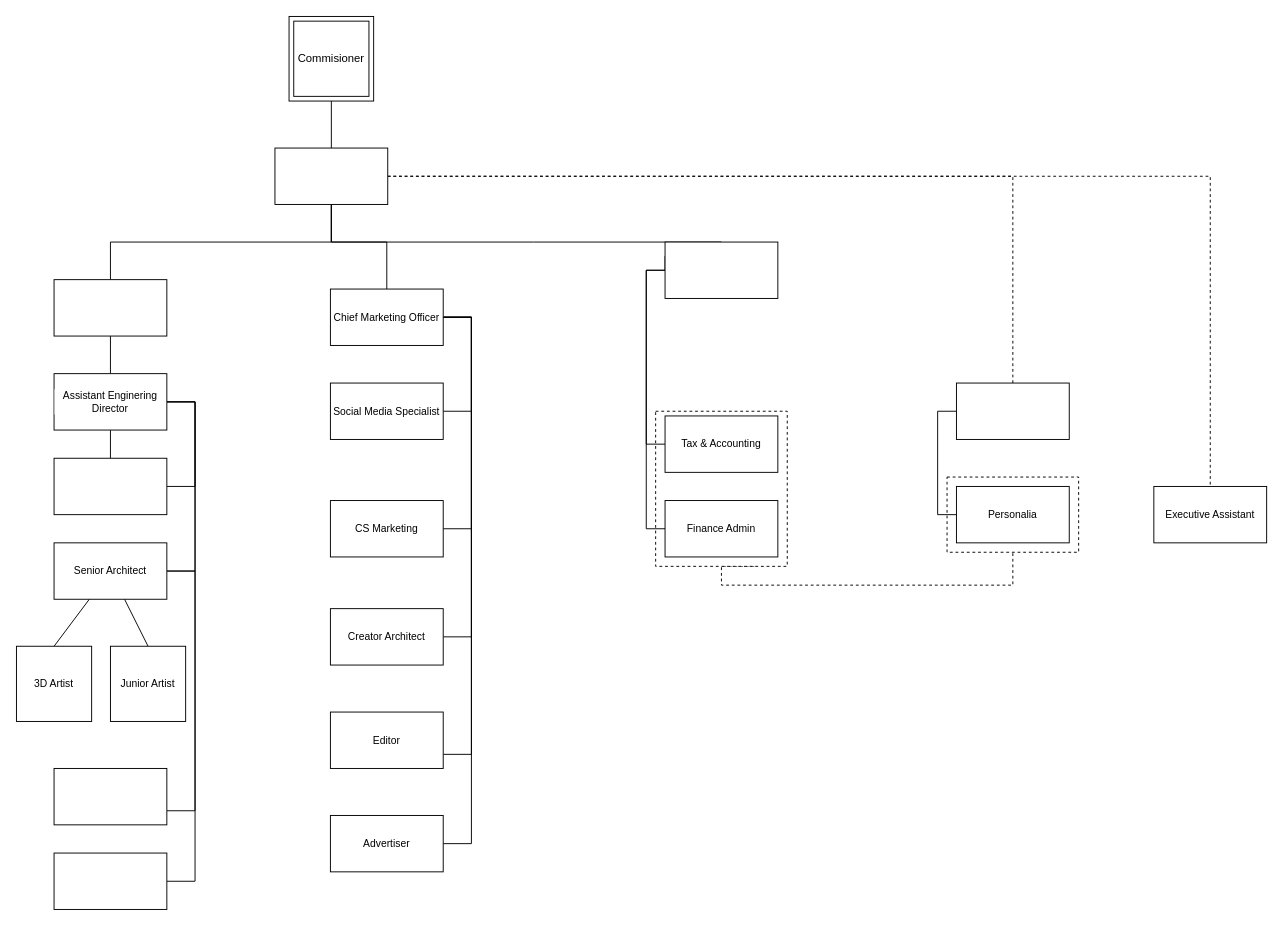
Image size: 1283x926. Some labels were removed from this diagram. The centre of each missing label's shape, as x and y in pixels:
"Chief Executive Officer" belongs at point (331, 175).
"Chief Finance Officer" belongs at point (721, 269).
"Drafter" belongs at point (110, 880).
"Enginering Director" belongs at point (110, 307).
"Estimator" belongs at point (110, 796).
"HRD" belongs at point (1012, 410).
"Supervisor" belongs at point (110, 486).
